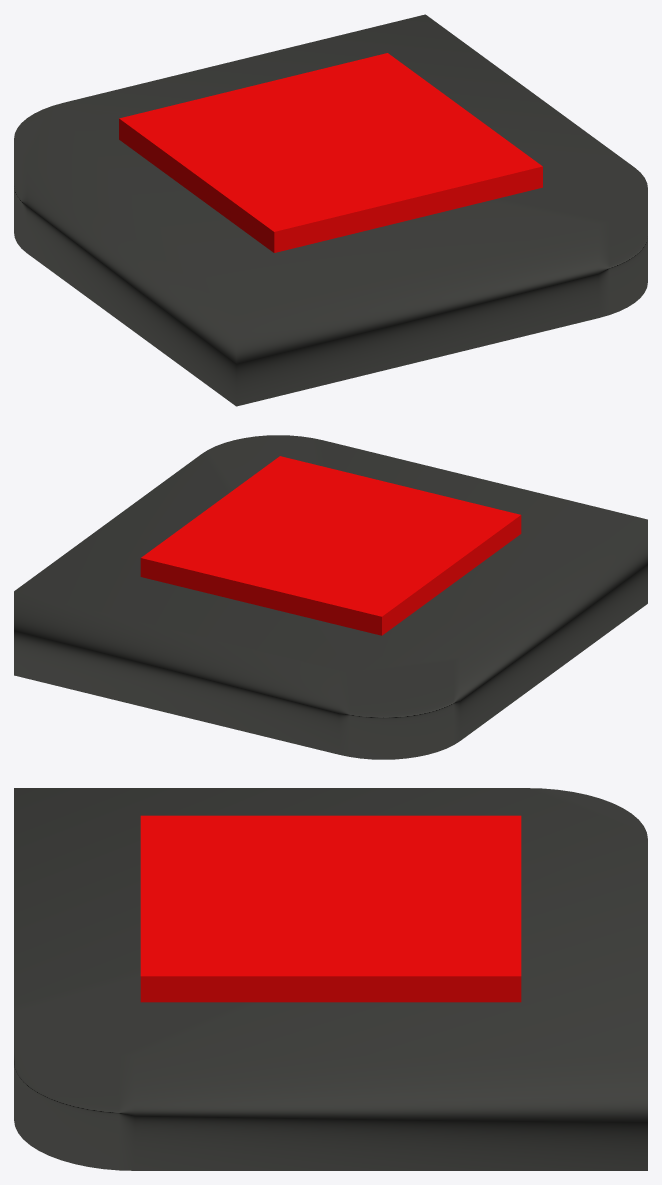
The model's file is stopButton2.fbx.
3 views of the same model, one above another, from view 1: azimuth 30°, elevation 25°; view 2: azimuth 150°, elevation 25°; view 3: azimuth 270°, elevation 25° (orthographic). The views are drawn at different scales.
Visible parts, largest first — view 1: pCube1, pCube2; view 2: pCube1, pCube2; view 3: pCube1, pCube2.
Part boxes in pixels (x1,y1,x2,y2): pCube1: (14, 14, 647, 406); pCube2: (119, 53, 542, 252); pCube1: (14, 435, 647, 759); pCube2: (140, 456, 521, 635); pCube1: (14, 788, 647, 1170); pCube2: (140, 815, 521, 1002).
Size of the model in its own units: 1 by 0.2452 by 1.
